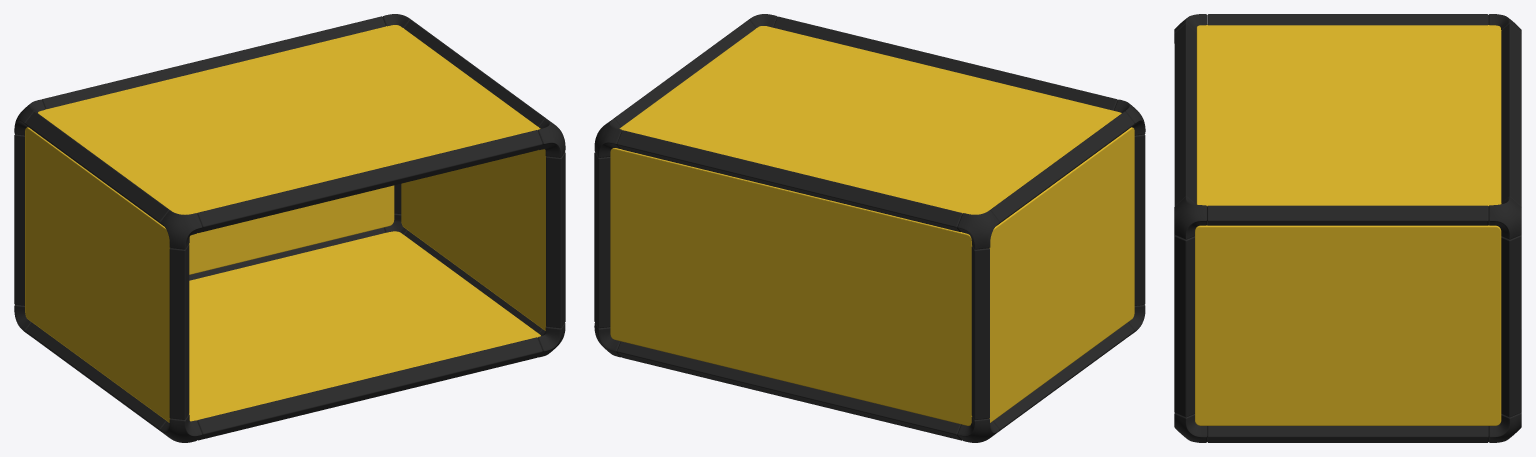
3 renders of one model, left to right at view 1: azimuth 30°, elevation 25°; view 2: azimuth 150°, elevation 25°; view 3: azimuth 270°, elevation 25°, orthographic. The views are drawn at different scales.
Visible parts, largest first — view 1: 479x329x229; view 2: 479x329x229; view 3: 479x329x229.
Part boxes in pixels (x1,y1,x2,y2): 479x329x229: (14,14,565,442); 479x329x229: (594,14,1145,442); 479x329x229: (1174,14,1521,442).
Bounding box in the file's own units: 0.5567 × 0.3066 × 0.4063.
